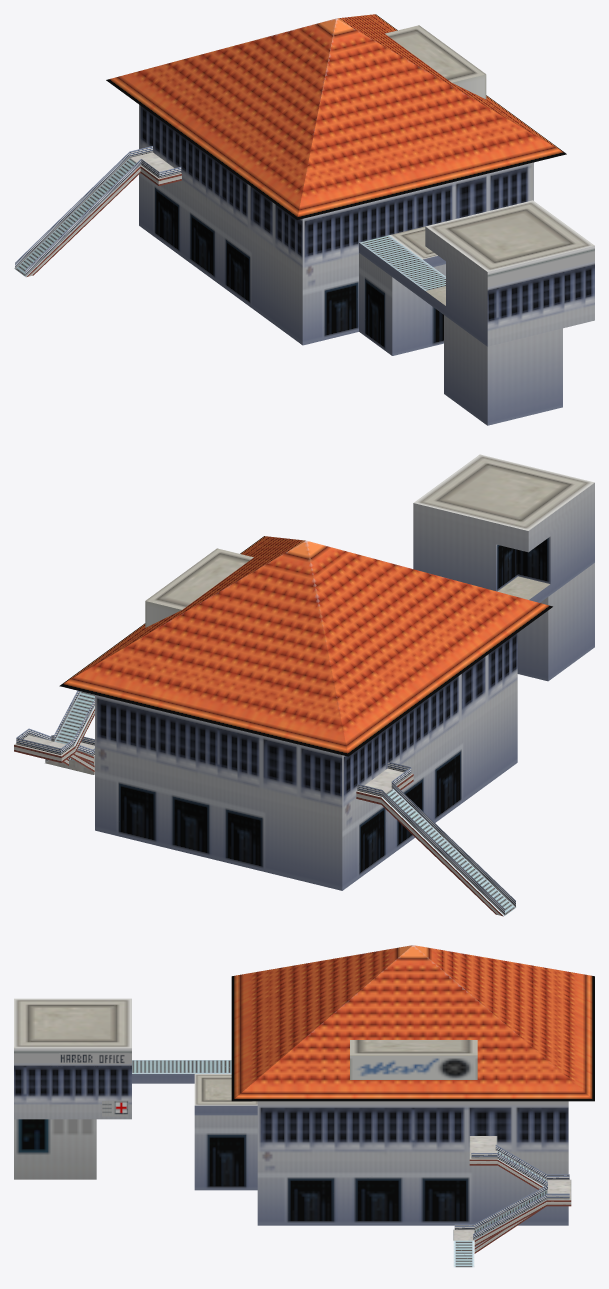
File: PierBuilding.fbx
3 views of the same model, one above another, from view 1: azimuth 30°, elevation 25°; view 2: azimuth 150°, elevation 25°; view 3: azimuth 270°, elevation 25° (orthographic). The views are drawn at different scales.
Visible parts, largest first — view 1: PierBuilding; view 2: PierBuilding; view 3: PierBuilding.
Boxes of the visible parts, x1,y1,x2,y2 form: PierBuilding: [14, 14, 594, 425]; PierBuilding: [14, 454, 594, 916]; PierBuilding: [14, 945, 594, 1267].
Bounding box in the file's own units: 14.73 × 7.37 × 16.75.
